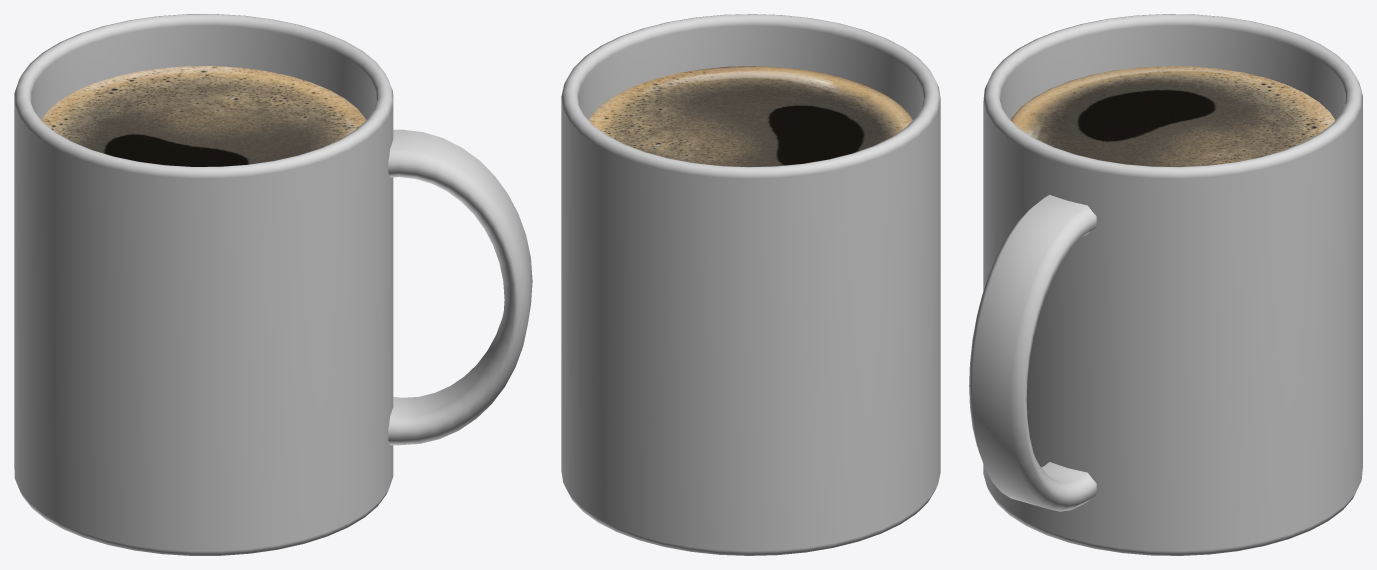
File: Coffeemug.glb
3 renders of one model, left to right at view 1: azimuth 30°, elevation 25°; view 2: azimuth 150°, elevation 25°; view 3: azimuth 270°, elevation 25°, orthographic.
Visible parts, largest first — view 1: Mug1_Mug_0, Mug1_Coffee_0; view 2: Mug1_Mug_0, Mug1_Coffee_0; view 3: Mug1_Mug_0, Mug1_Coffee_0.
Boxes of the visible parts, <box> form: Mug1_Mug_0: <box>14,14,532,555</box>; Mug1_Coffee_0: <box>41,66,366,166</box>; Mug1_Mug_0: <box>561,14,940,555</box>; Mug1_Coffee_0: <box>589,66,913,166</box>; Mug1_Mug_0: <box>969,14,1362,555</box>; Mug1_Coffee_0: <box>1010,66,1335,166</box>.
Size of the model in its own units: 0.4257 by 0.3844 by 0.3529.
Materials: 2 (1 with a texture image).
